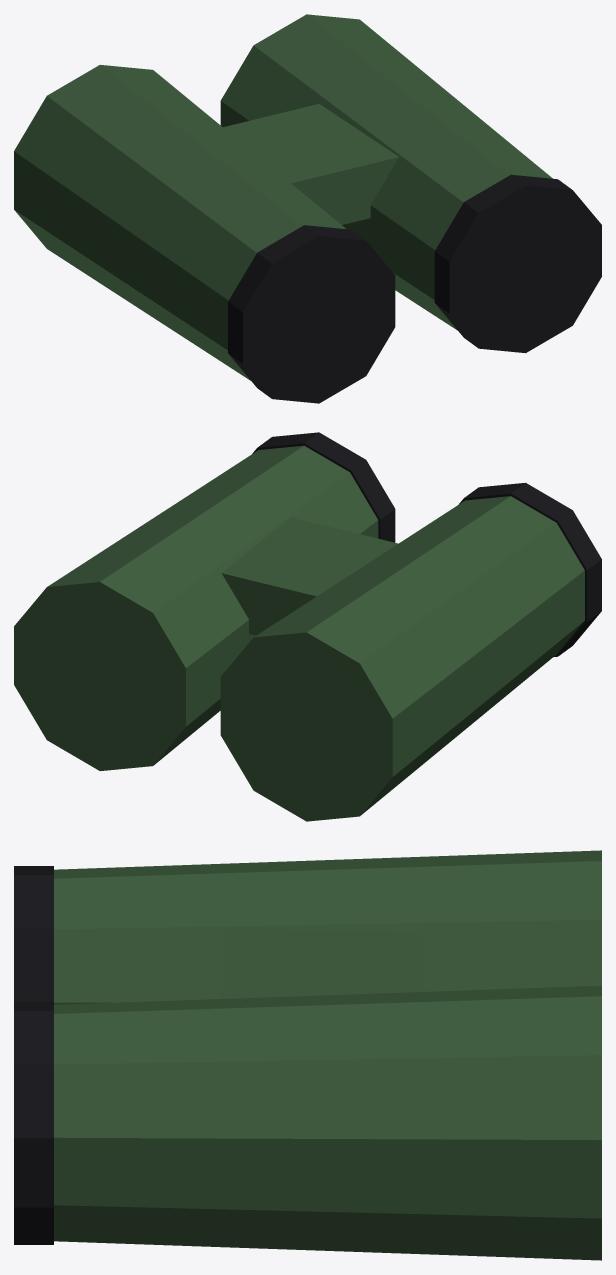
Rendered from binoculars.glb.
The picture shows the model from 3 angles, top to bottom: view 1: azimuth 30°, elevation 25°; view 2: azimuth 150°, elevation 25°; view 3: azimuth 270°, elevation 25°; orthographic projection. The views are drawn at different scales.
Parts seen in each view (by area): view 1: barrel_binocular_green, lens_scope_lens, bridge_binocular_green; view 2: barrel_binocular_green, bridge_binocular_green, lens_scope_lens; view 3: barrel_binocular_green, lens_scope_lens, bridge_binocular_green.
Boxes of the visible parts, x1=… form: barrel_binocular_green: x1=14, y1=14, x2=552, y2=380; lens_scope_lens: x1=228, y1=174, x2=601, y2=403; bridge_binocular_green: x1=223, y1=104, x2=398, y2=224; barrel_binocular_green: x1=14, y1=445, x2=584, y2=821; bridge_binocular_green: x1=221, y1=517, x2=397, y2=635; lens_scope_lens: x1=252, y1=432, x2=601, y2=656; barrel_binocular_green: x1=54, y1=850, x2=601, y2=1260; lens_scope_lens: x1=14, y1=866, x2=53, y2=1244; bridge_binocular_green: x1=222, y1=929, x2=421, y2=998.
Bounding box in the file's own units: 0.1466 × 0.07 × 0.147.
